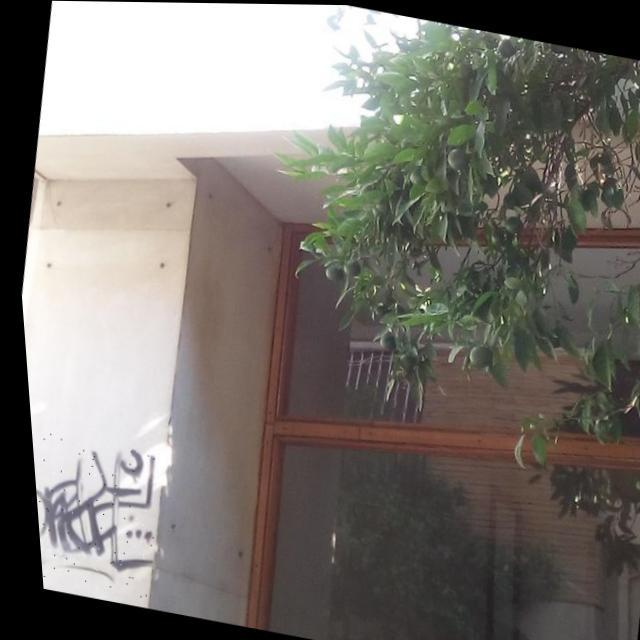-: (25, 428, 163, 597)
